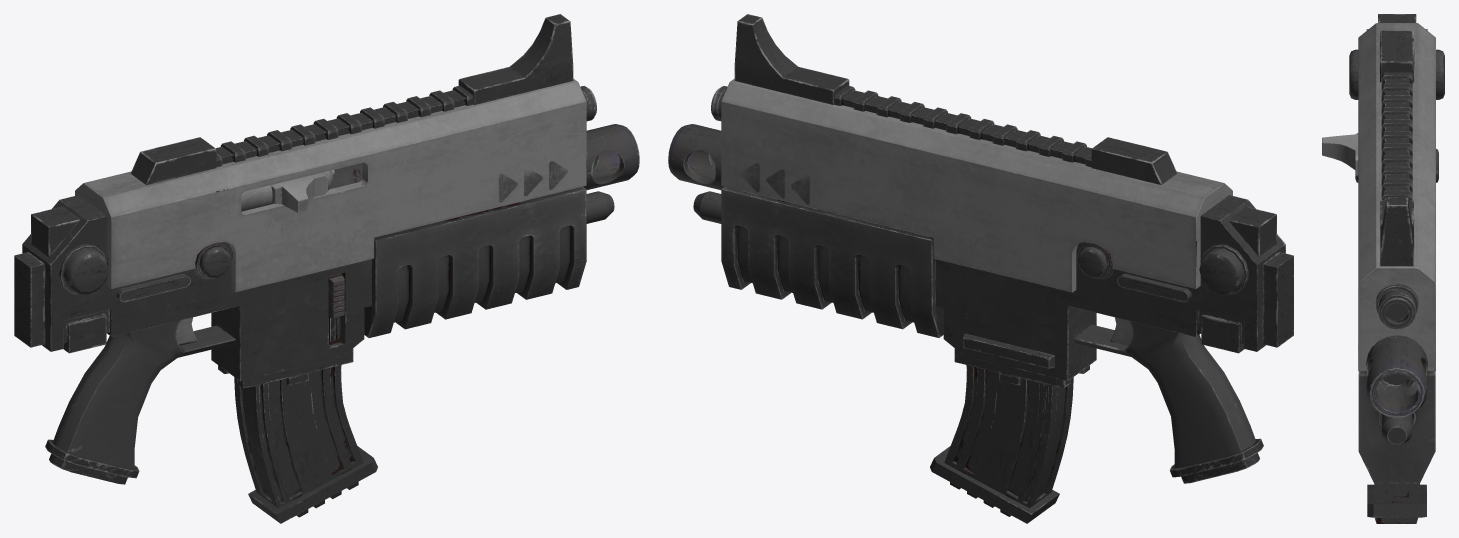
Rendered from 40k_bolter.glb.
The picture shows the model from 3 angles, left to right: view 1: azimuth 30°, elevation 25°; view 2: azimuth 150°, elevation 25°; view 3: azimuth 270°, elevation 25°; orthographic projection. The views are drawn at different scales.
Visible parts, largest first — view 1: Bolter1, firing_pin; view 2: Bolter1; view 3: Bolter1, firing_pin.
Boxes of the visible parts, x1=… form: Bolter1: x1=14, y1=14, x2=639, y2=523; firing_pin: x1=241, y1=170, x2=334, y2=212; Bolter1: x1=668, y1=14, x2=1293, y2=523; Bolter1: x1=1349, y1=14, x2=1444, y2=523; firing_pin: x1=1322, y1=133, x2=1358, y2=176.
Bounding box in the file's own units: 1.12 × 0.7588 × 0.1877.
Materials: 1 (1 with a texture image).
